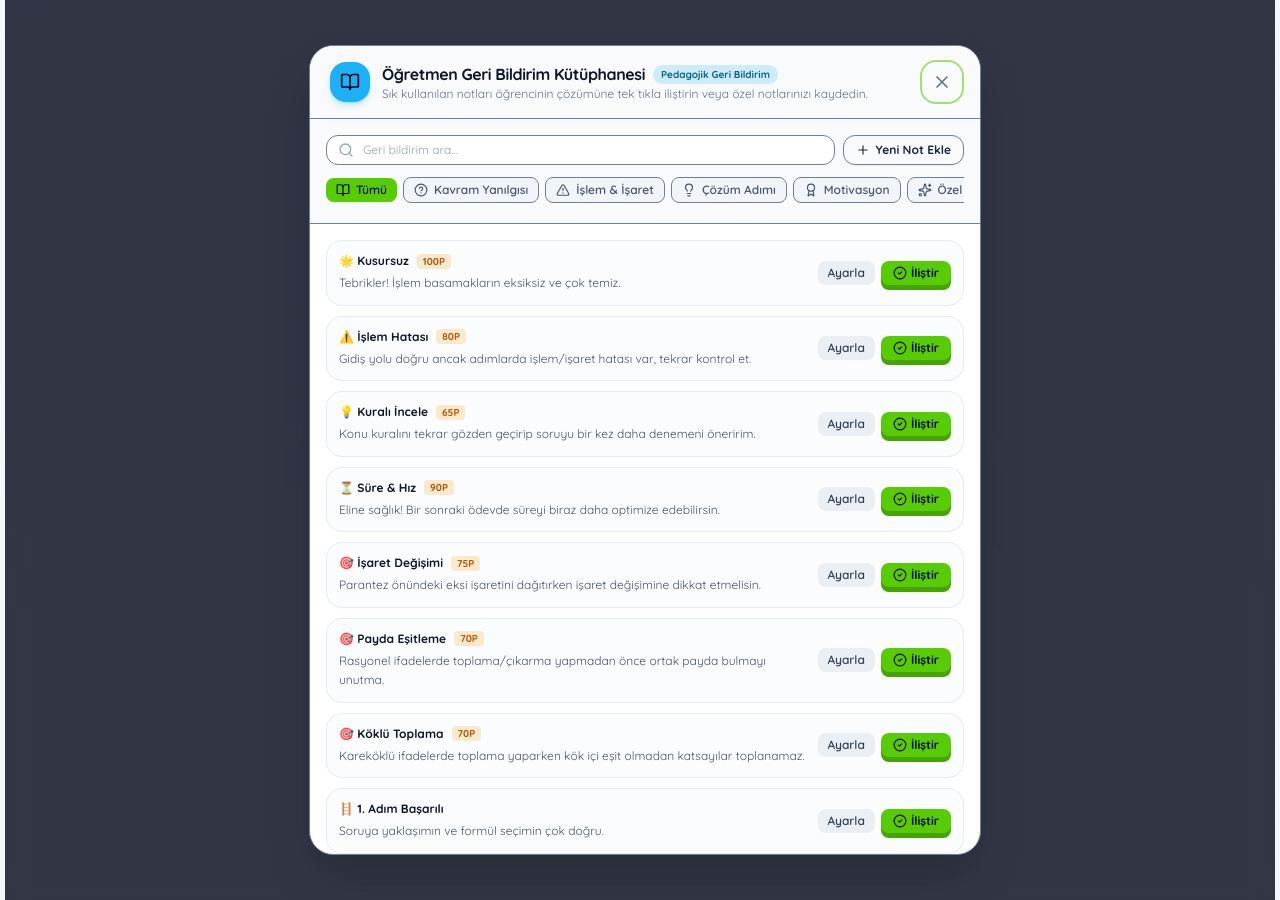
TeacherFeedbackLibraryModal Component › filters templates by category chip
The width and height of the screenshot is (1280, 900).
Click the button "Kavram Yanılgısı" at {"x": 471, "y": 190}, box top-left (403, 177), bottom-right (539, 203)
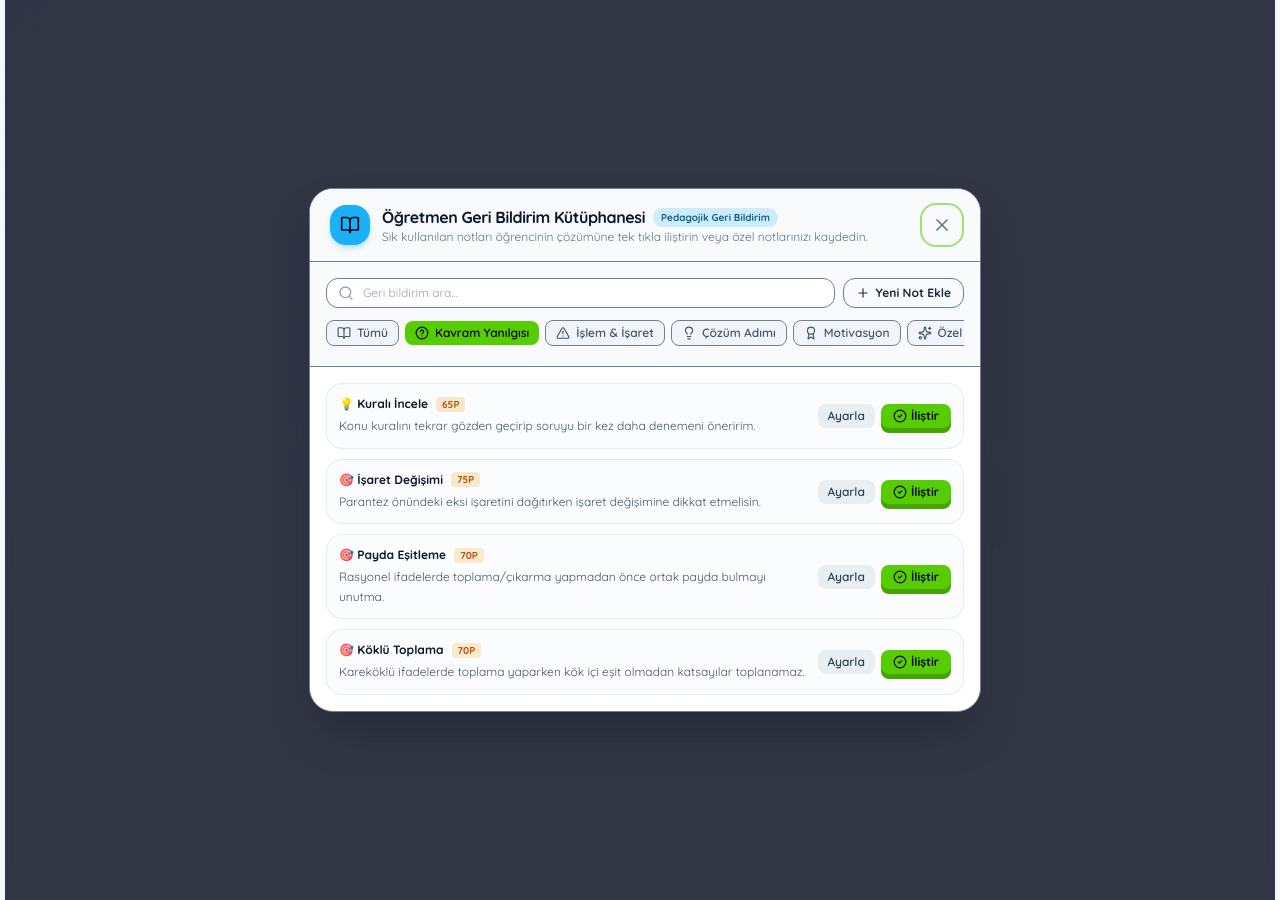
Expected: the text "💡 Kuralı İncele" is shown, top-left (339, 396), bottom-right (428, 412)
Now the text "🌟 Kusursuz" is gone
